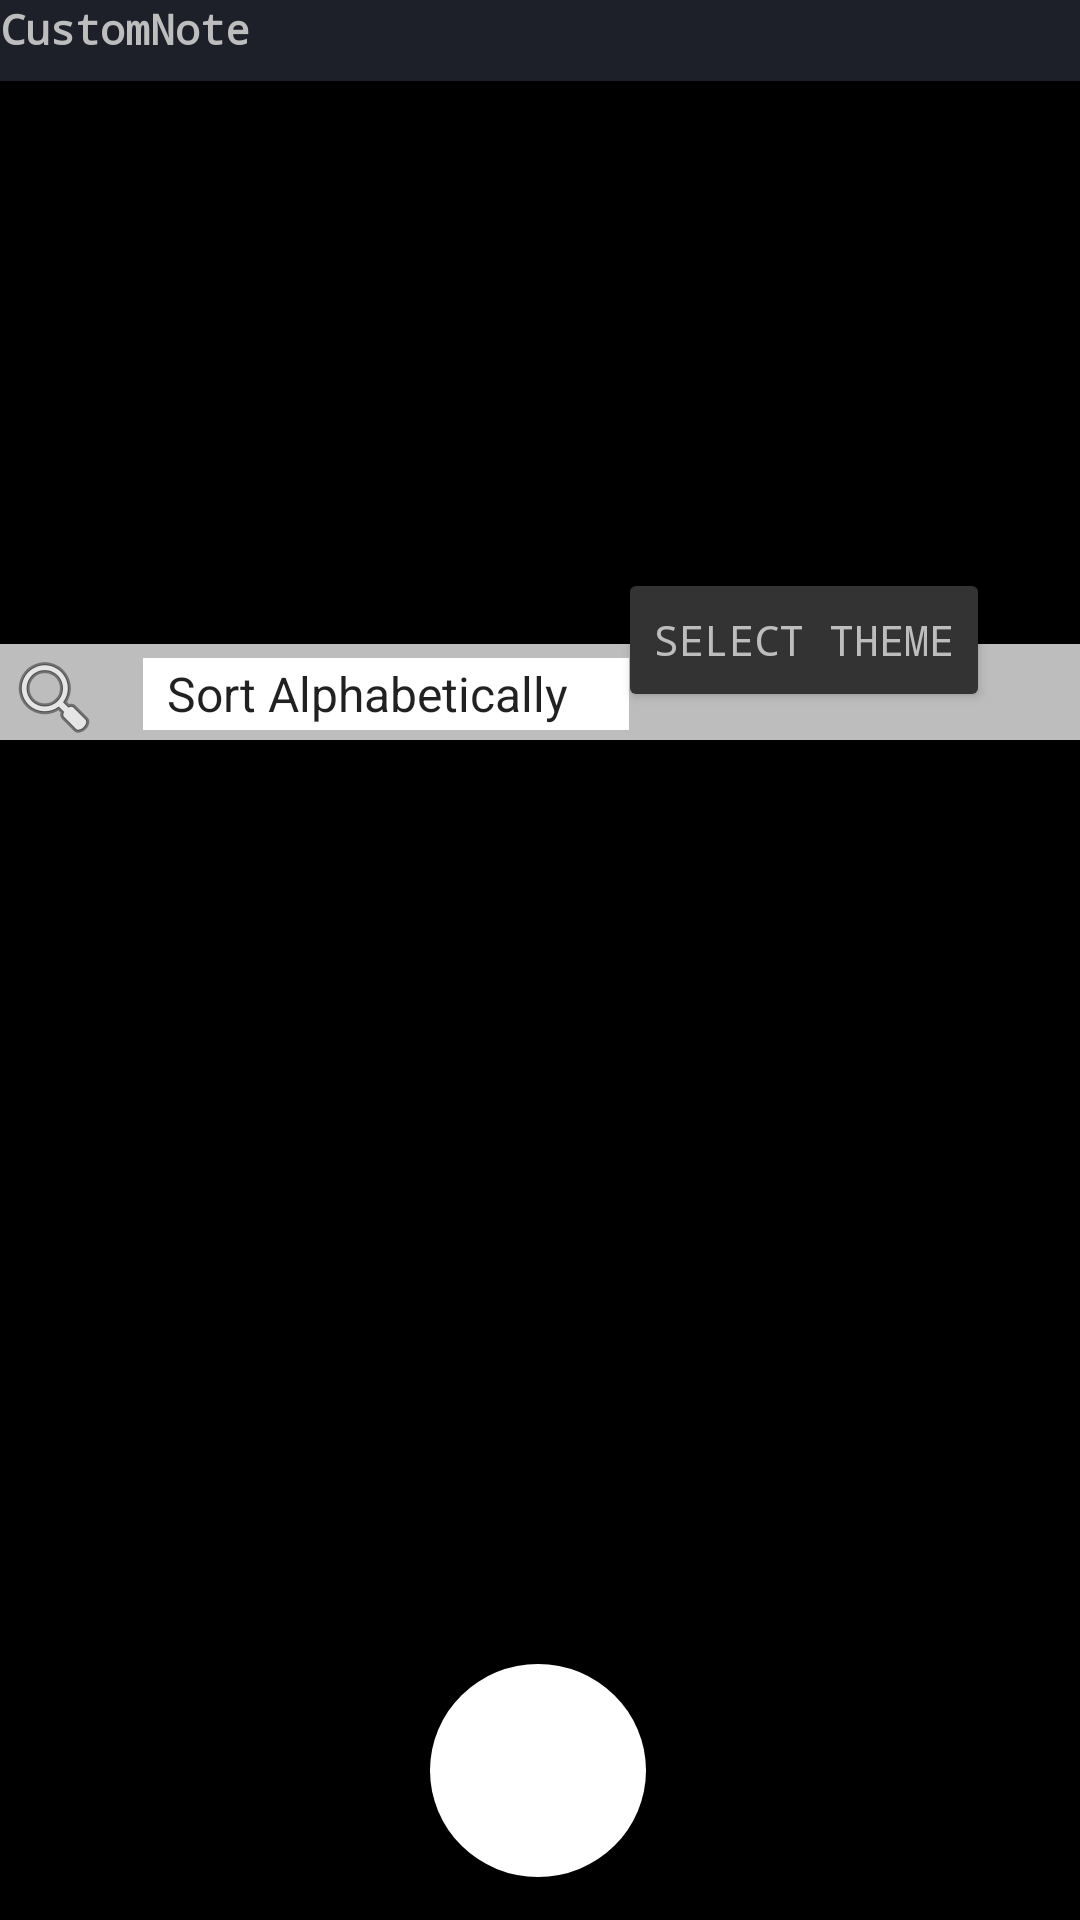

Icon click points for this 1080w x 1920h phone screenshot, format point (x, y):
search: point (54, 692)
